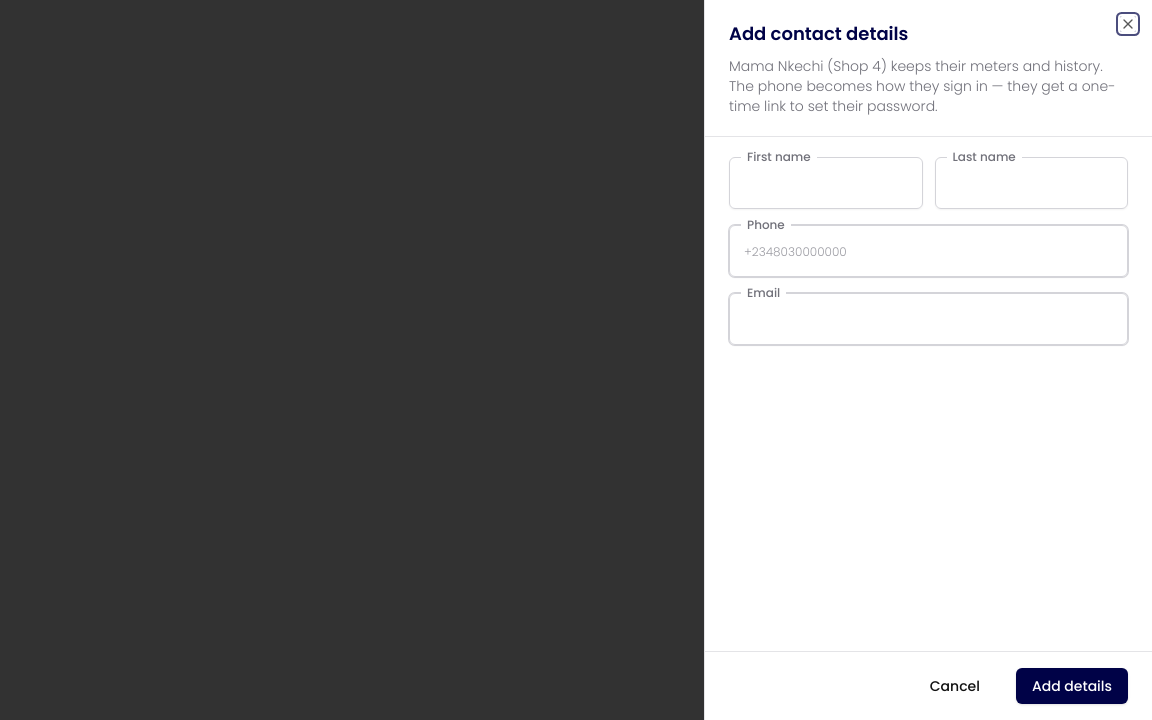
it: AttachPersonSheet › lands a taken contact under its fields, never disclosing whose it is
The image size is (1152, 720).
Type "Ubani" into the field labelled "First name".
click(826, 183); type("Ubani")  # box [729,157,922,209]
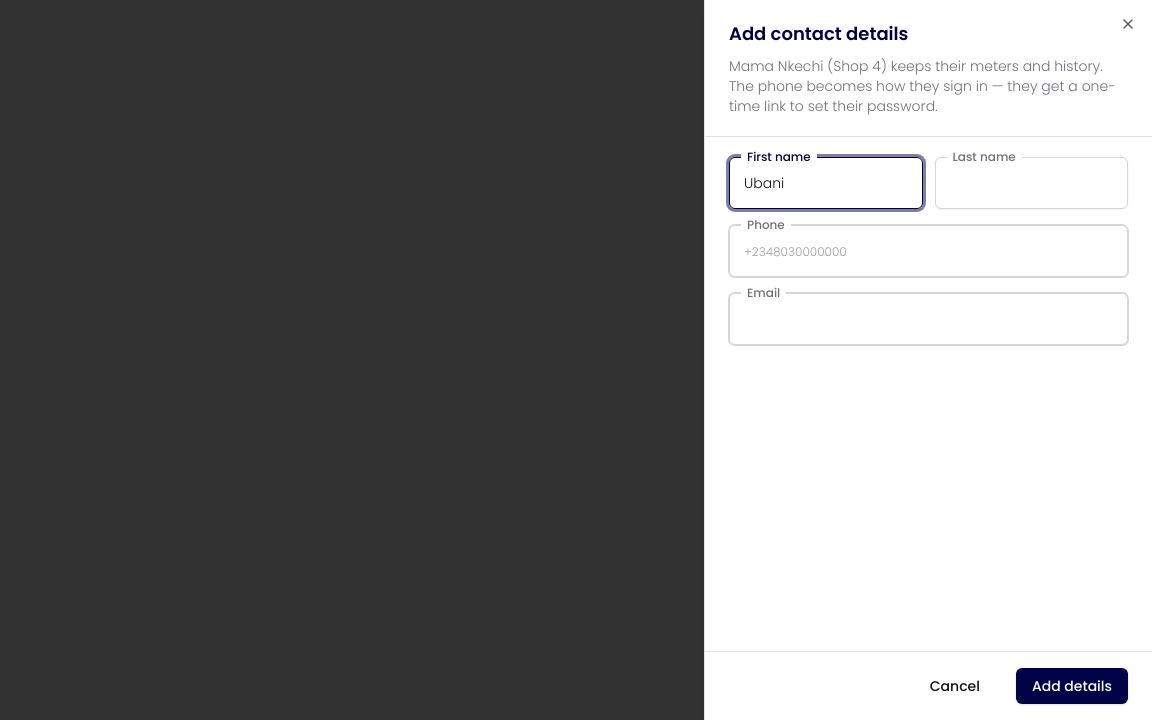
Type "Okoro" into the field labelled "Last name".
click(1031, 183); type("Okoro")  # box [934,157,1128,209]
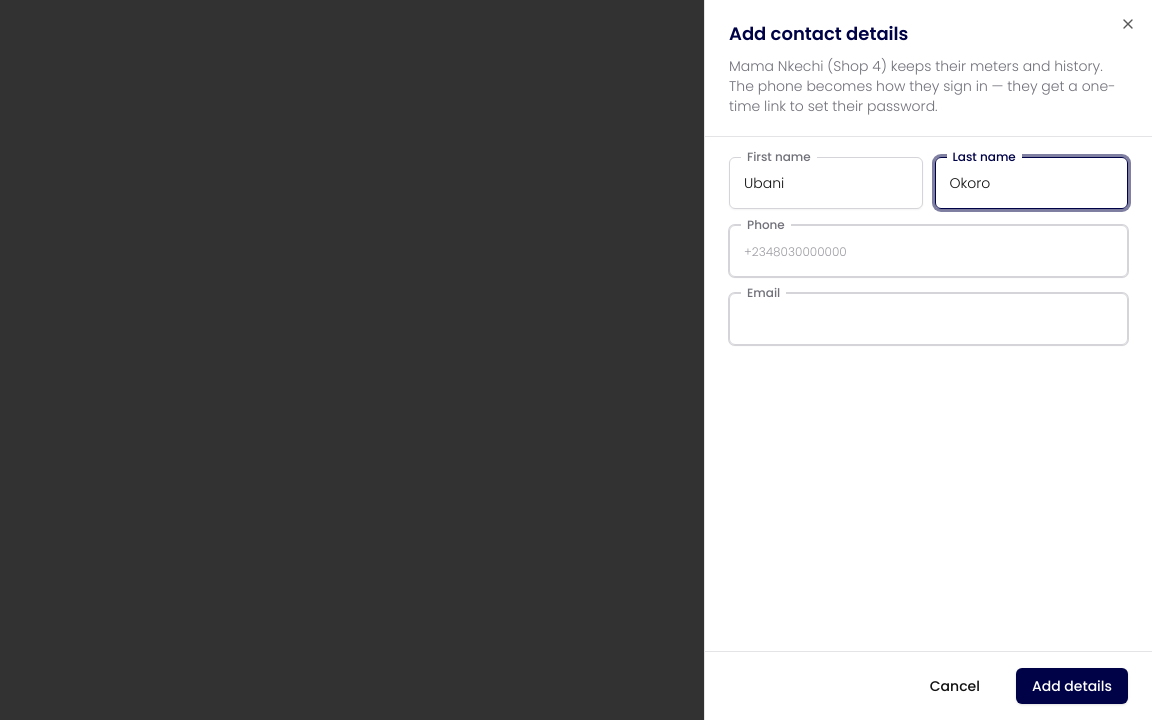
Type "+2348055000001" into the field labelled "Phone".
click(928, 251); type("+2348055000001")  # box [729,225,1128,277]
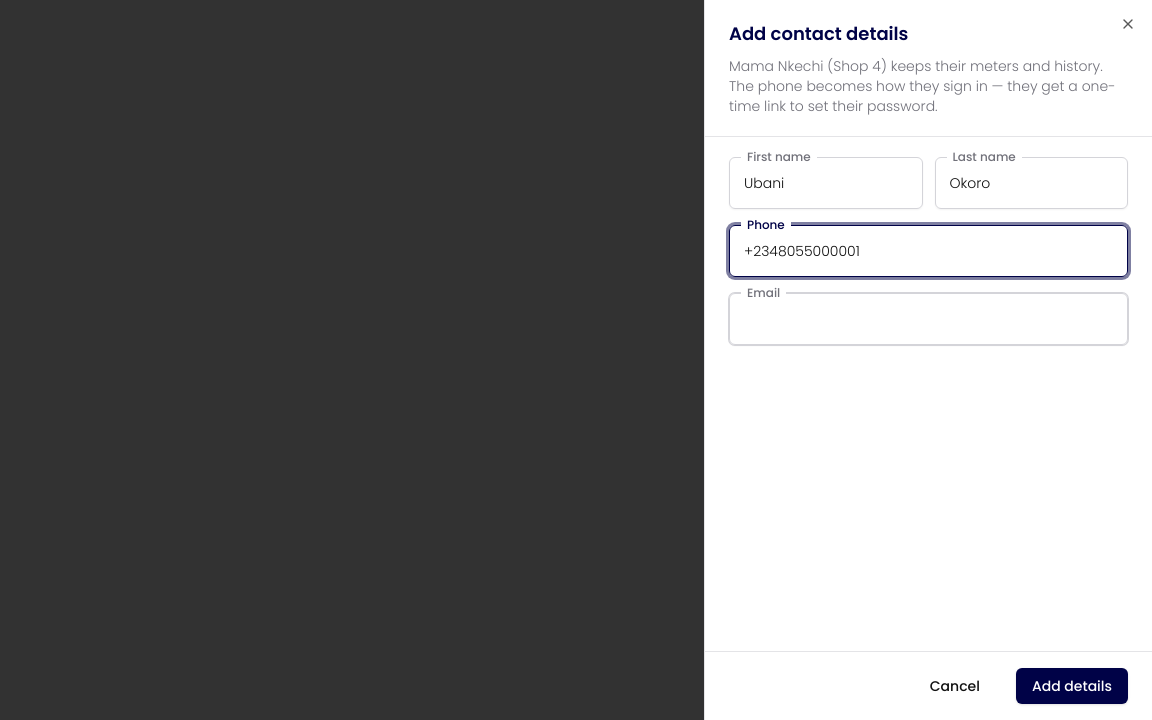
Type "ubani@example.test" into the field labelled "Email".
click(928, 319); type("ubani@example.test")  # box [729,293,1128,345]
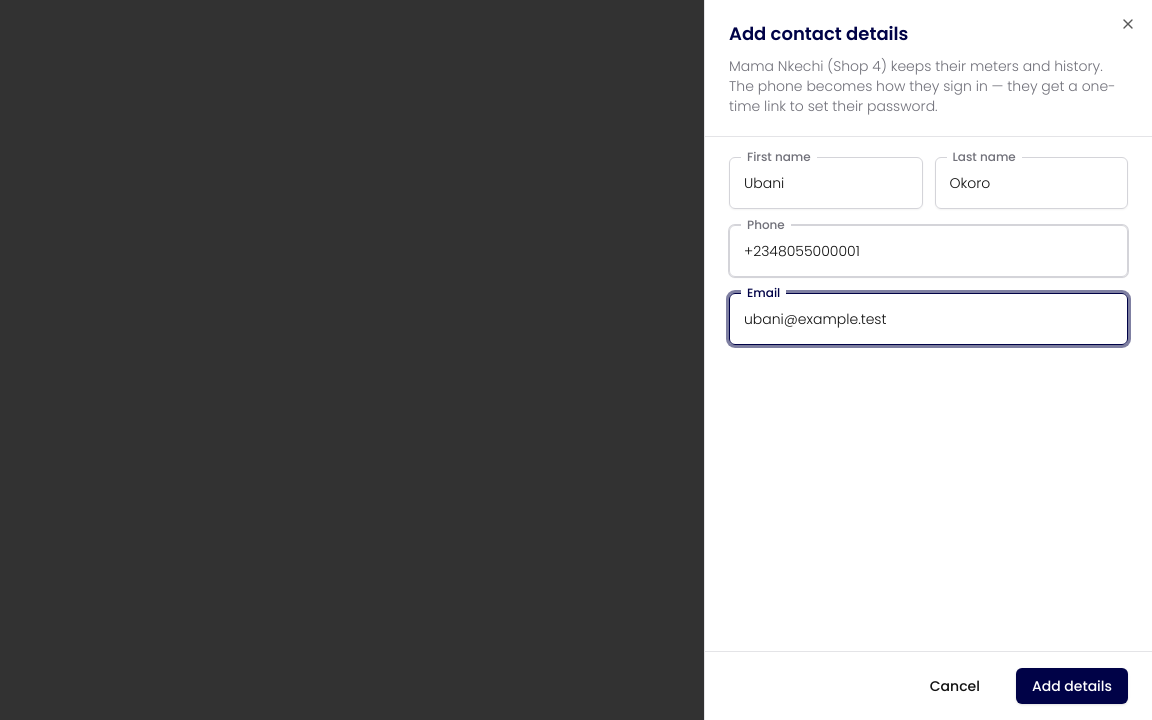
Click the button "Add details".
click(1072, 686)  # box [1016,668,1128,704]
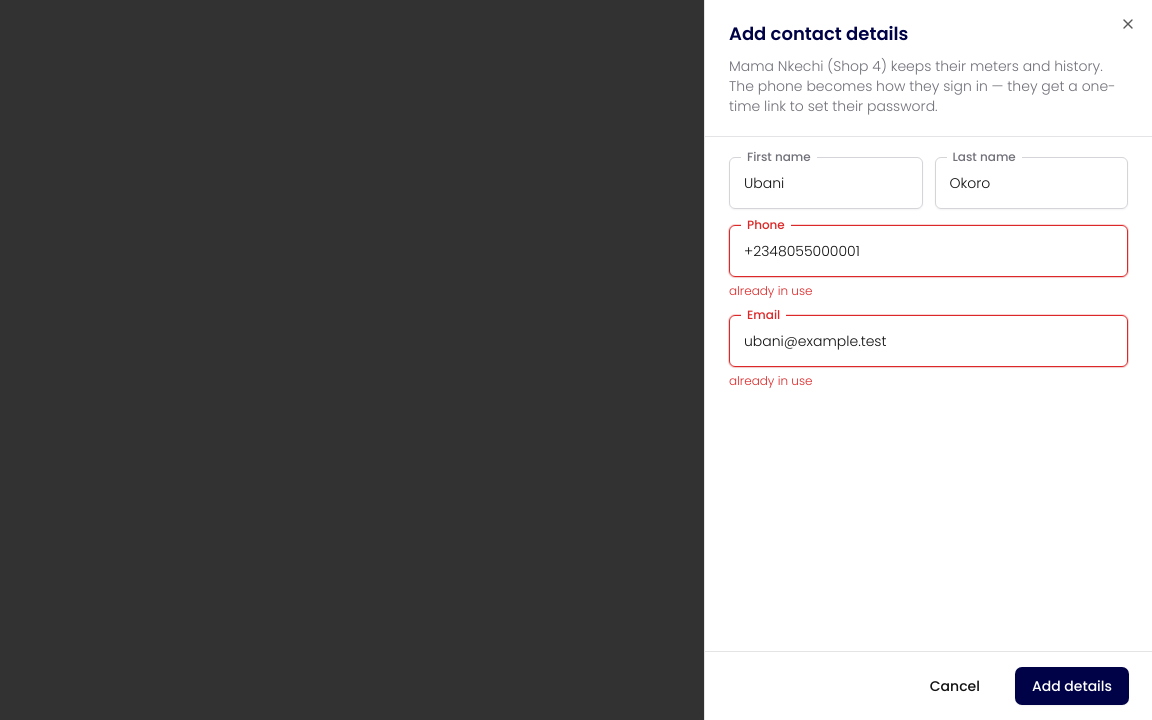
Check: the text "already in use" is shown 2 times, box [729,282,812,299]; [729,372,812,389]
